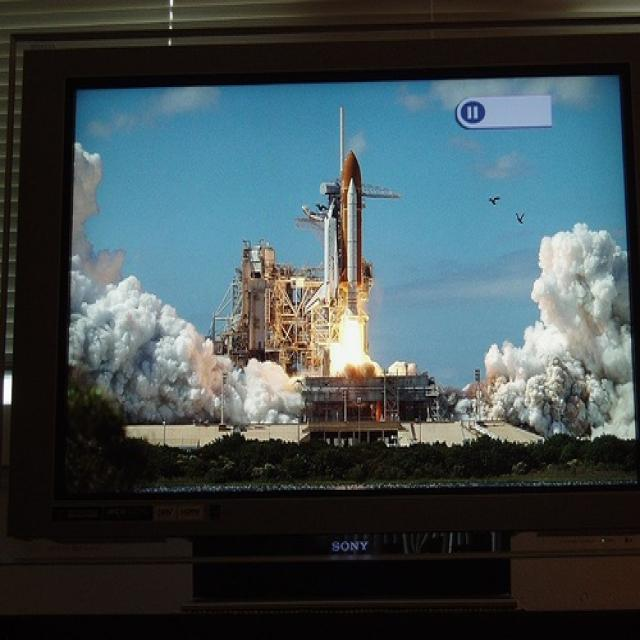tvmonitor: (2, 25, 638, 608)
